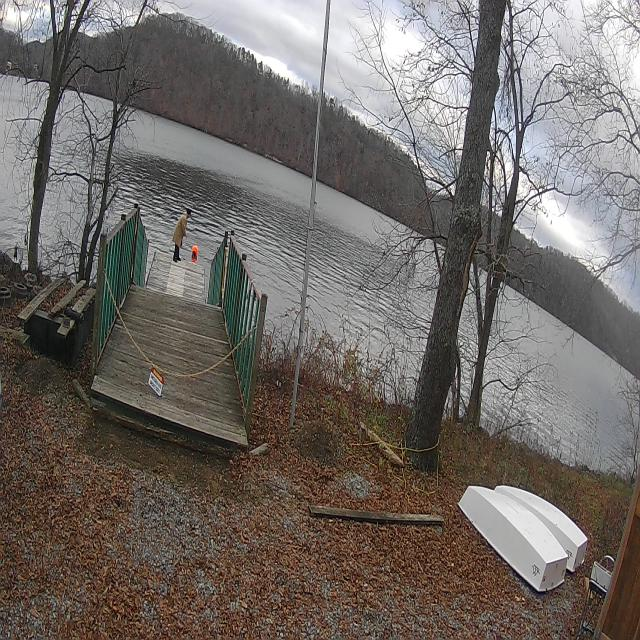Buoy: (189, 240, 200, 268)
